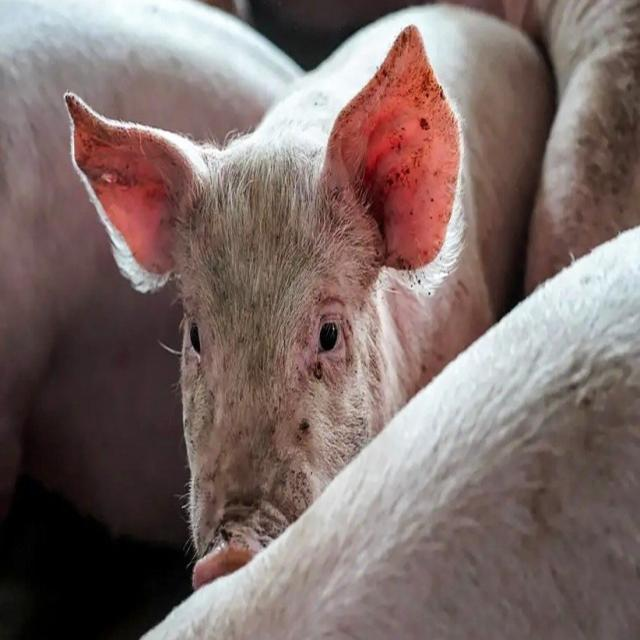Pig: (63, 9, 560, 588)
